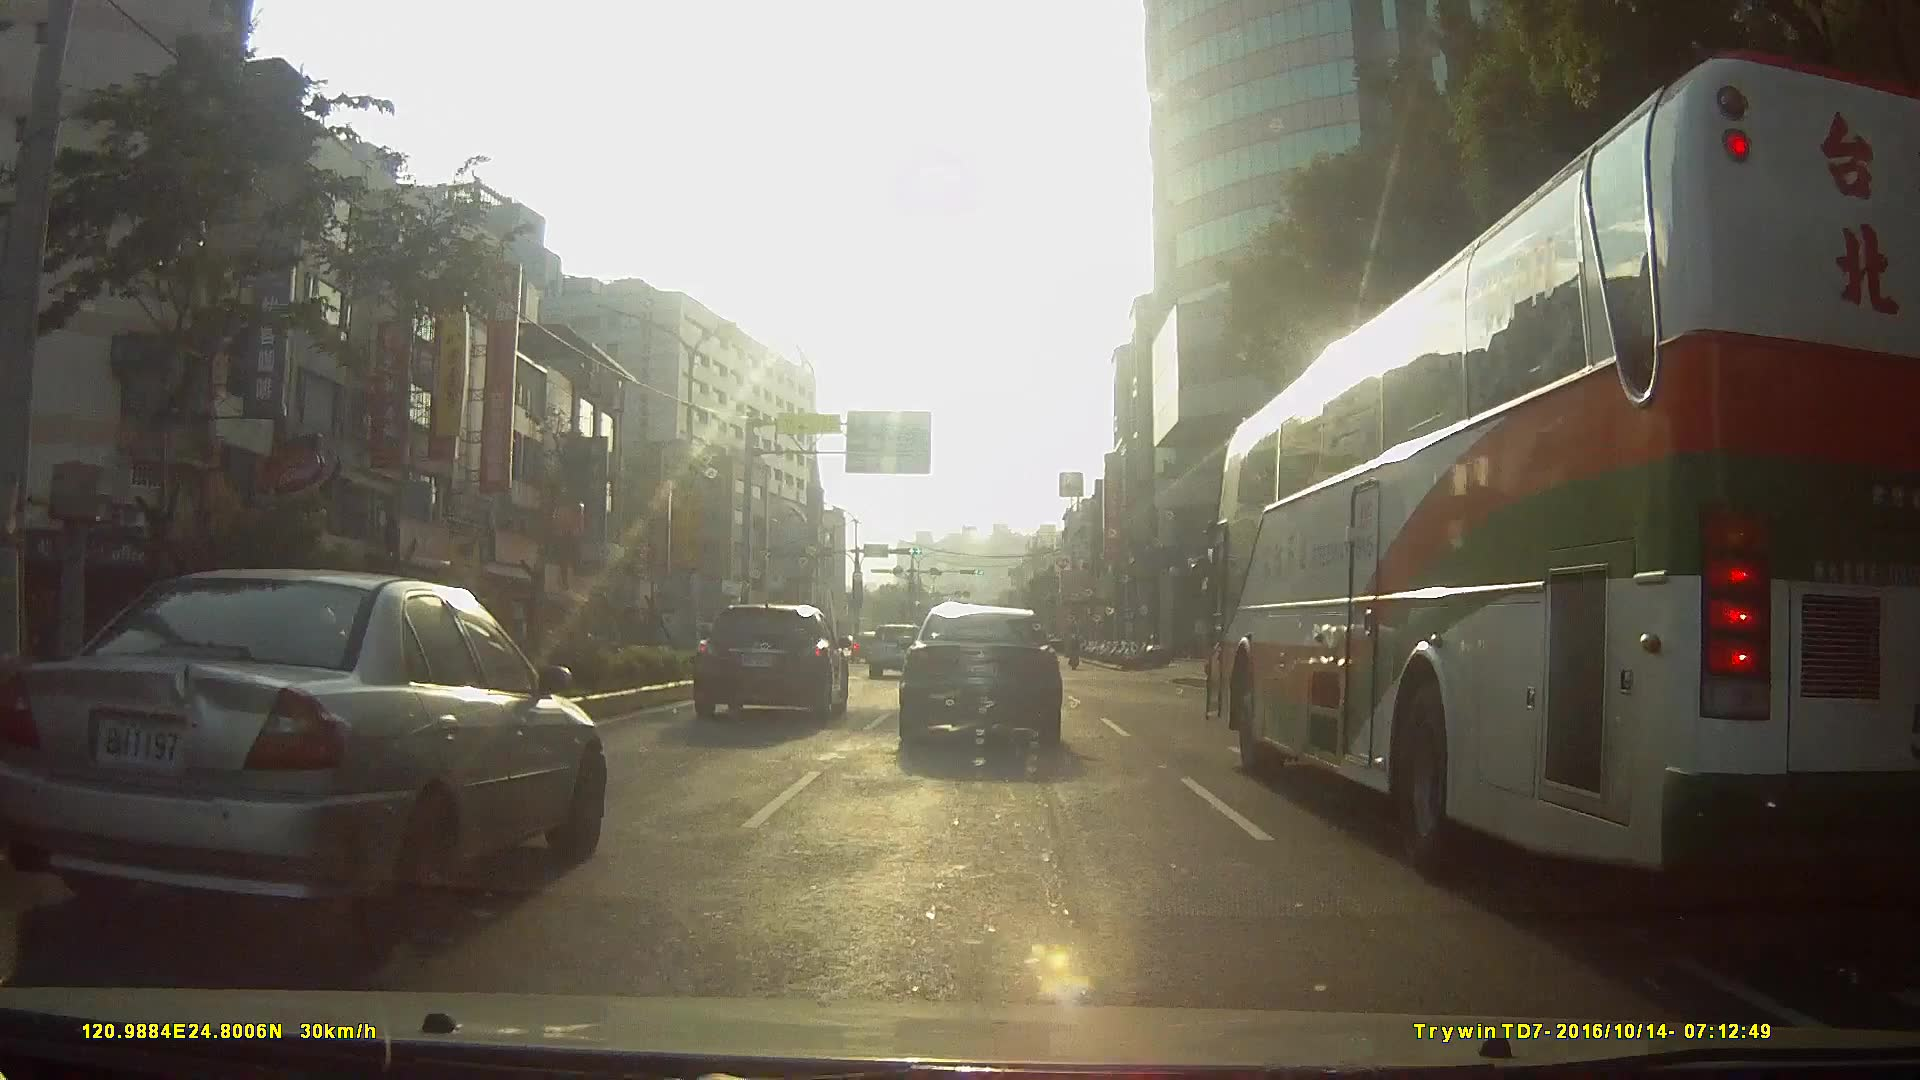vehicle: (1180, 75, 1913, 899), (0, 564, 604, 948), (895, 599, 1062, 750), (692, 601, 851, 719), (862, 622, 924, 680)
